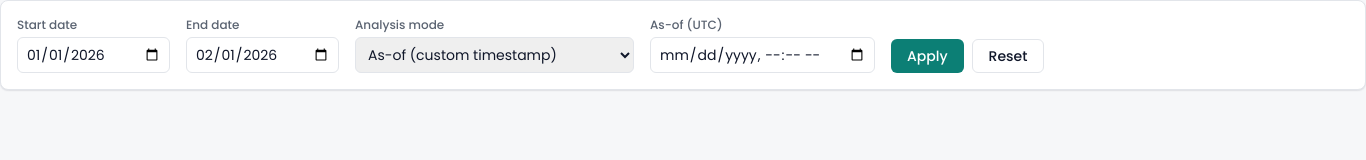
it: AnalysisFilters › requires an as-of timestamp when as-of mode is selected
Click the button "Apply" at (927, 56), box top-left (891, 39), bottom-right (964, 73)
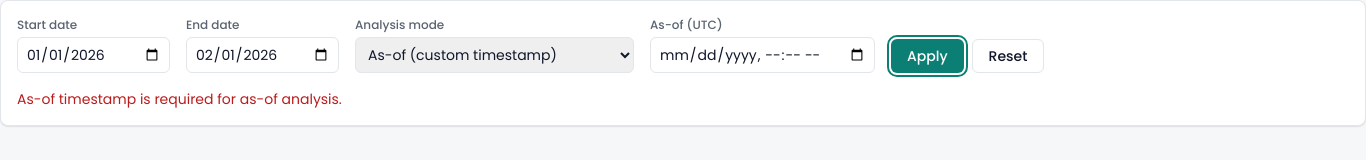
Result: the message shows "As-of timestamp is required" at top-left (17, 89), bottom-right (342, 109)
